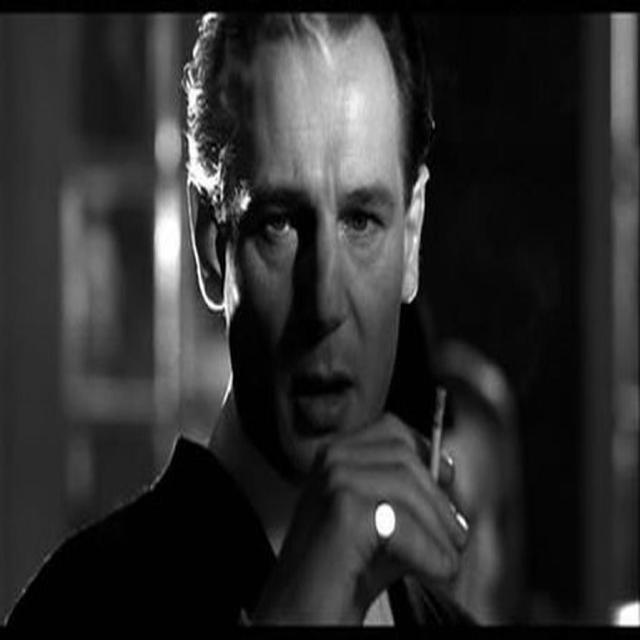smoking: (184, 4, 476, 608)
